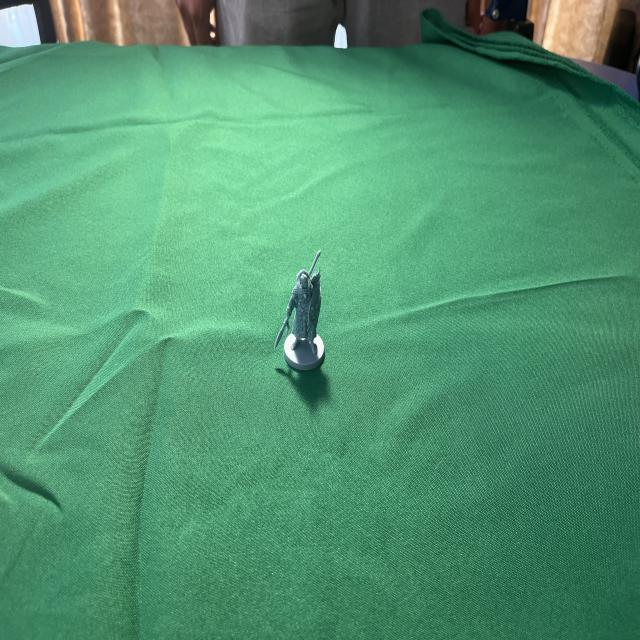isis_follower: (278, 253, 328, 373)
